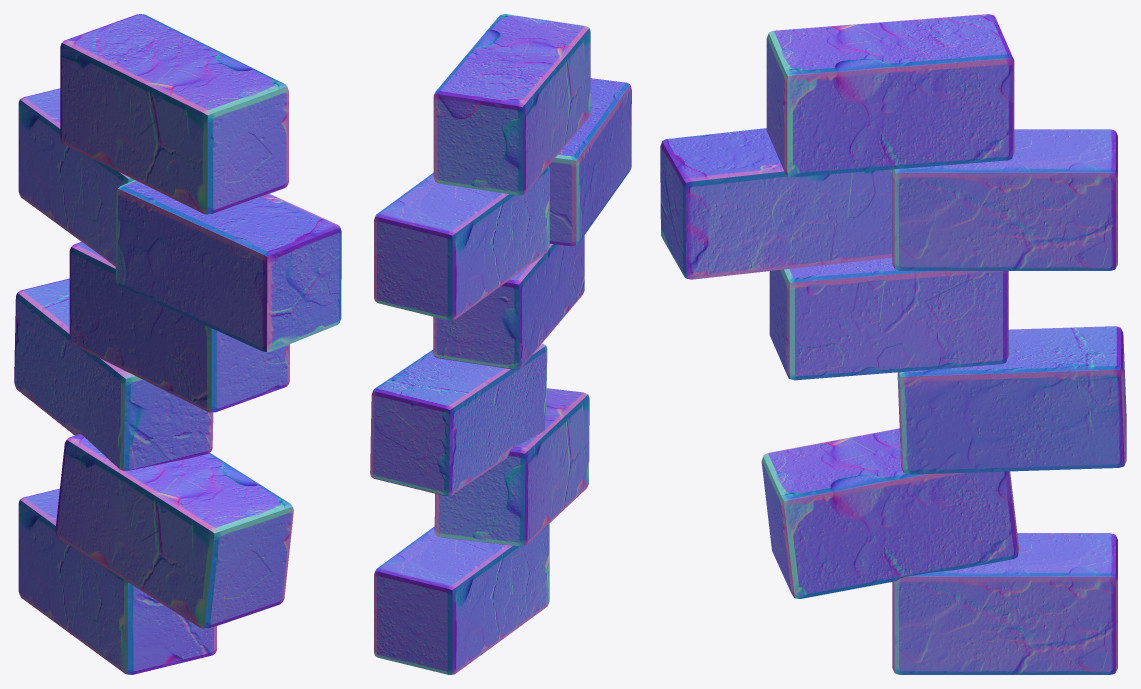
The model's file is Dungeon_WallBricksLargeFade1.fbx.
3 renders of one model, left to right at view 1: azimuth 30°, elevation 25°; view 2: azimuth 150°, elevation 25°; view 3: azimuth 270°, elevation 25°, orthographic. The views are drawn at different scales.
Visible parts, largest first — view 1: MeshHP; view 2: MeshHP; view 3: MeshHP.
Part boxes in pixels (x1=…): MeshHP: x1=14, y1=14, x2=341, y2=674; MeshHP: x1=370, y1=14, x2=631, y2=674; MeshHP: x1=660, y1=14, x2=1126, y2=674.
Bounding box in the file's own units: 0.9369 × 4.02 × 2.77.
1 material, 1 textured.
